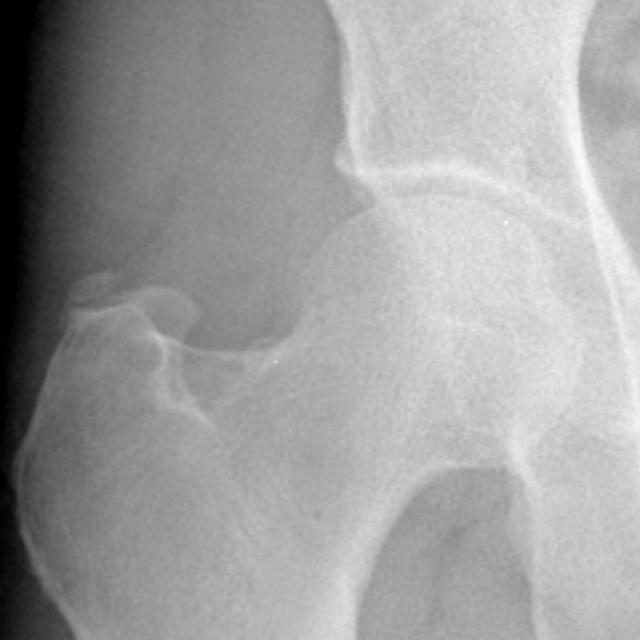Fitted_femural_head: (296, 195, 432, 296)
